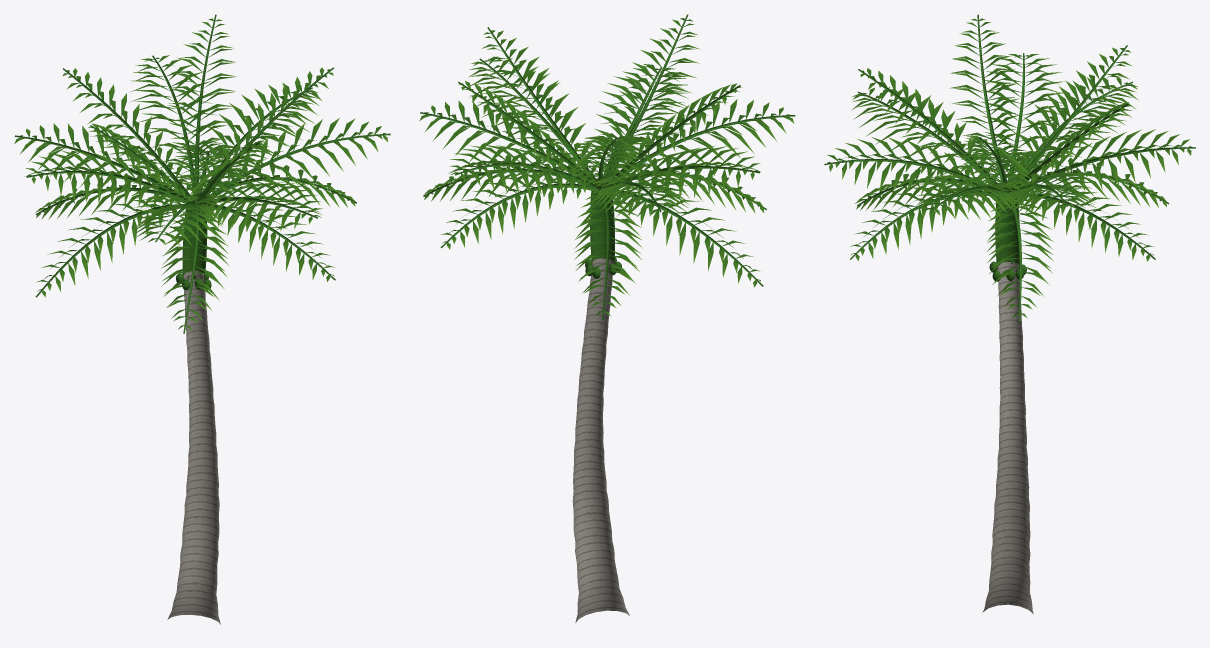
File: veg_palm_royal_aaa-3c018eade865.glb
3 renders of one model, left to right at view 1: azimuth 30°, elevation 25°; view 2: azimuth 150°, elevation 25°; view 3: azimuth 270°, elevation 25°, orthographic. The views are drawn at different scales.
Parts seen in each view (by area): view 1: veg_palm_royal_aaa; view 2: veg_palm_royal_aaa; view 3: veg_palm_royal_aaa.
Part boxes in pixels (left/top/right/bottom): veg_palm_royal_aaa: left=14, top=14, right=390, bottom=624; veg_palm_royal_aaa: left=419, top=14, right=795, bottom=622; veg_palm_royal_aaa: left=824, top=14, right=1195, bottom=613.
Size of the model in its own units: 5.58 by 8.93 by 5.38.
3 materials, 3 textured.
